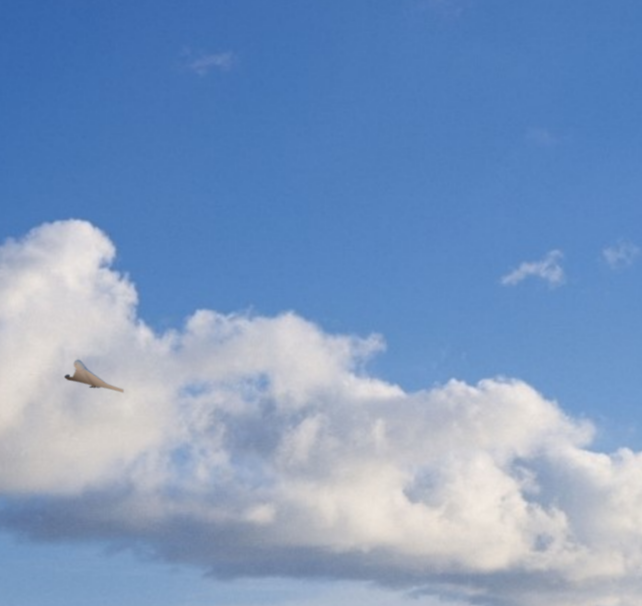military drone: (64, 359, 124, 394)
